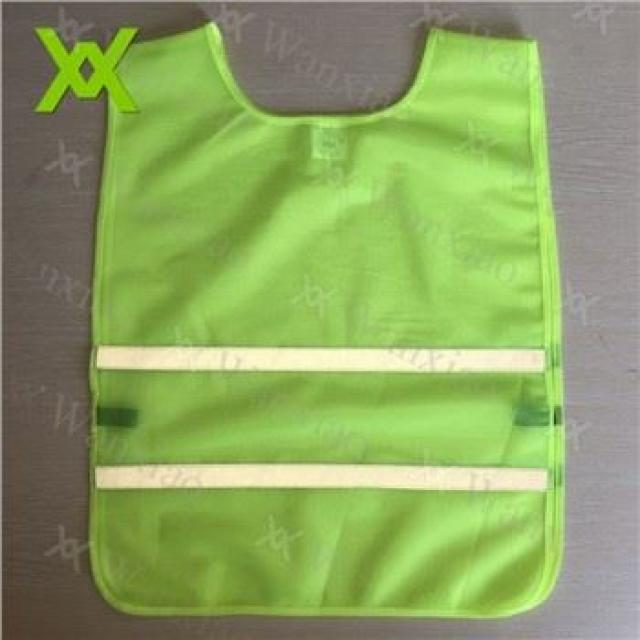Reflective-Jacket: (48, 5, 610, 640)
